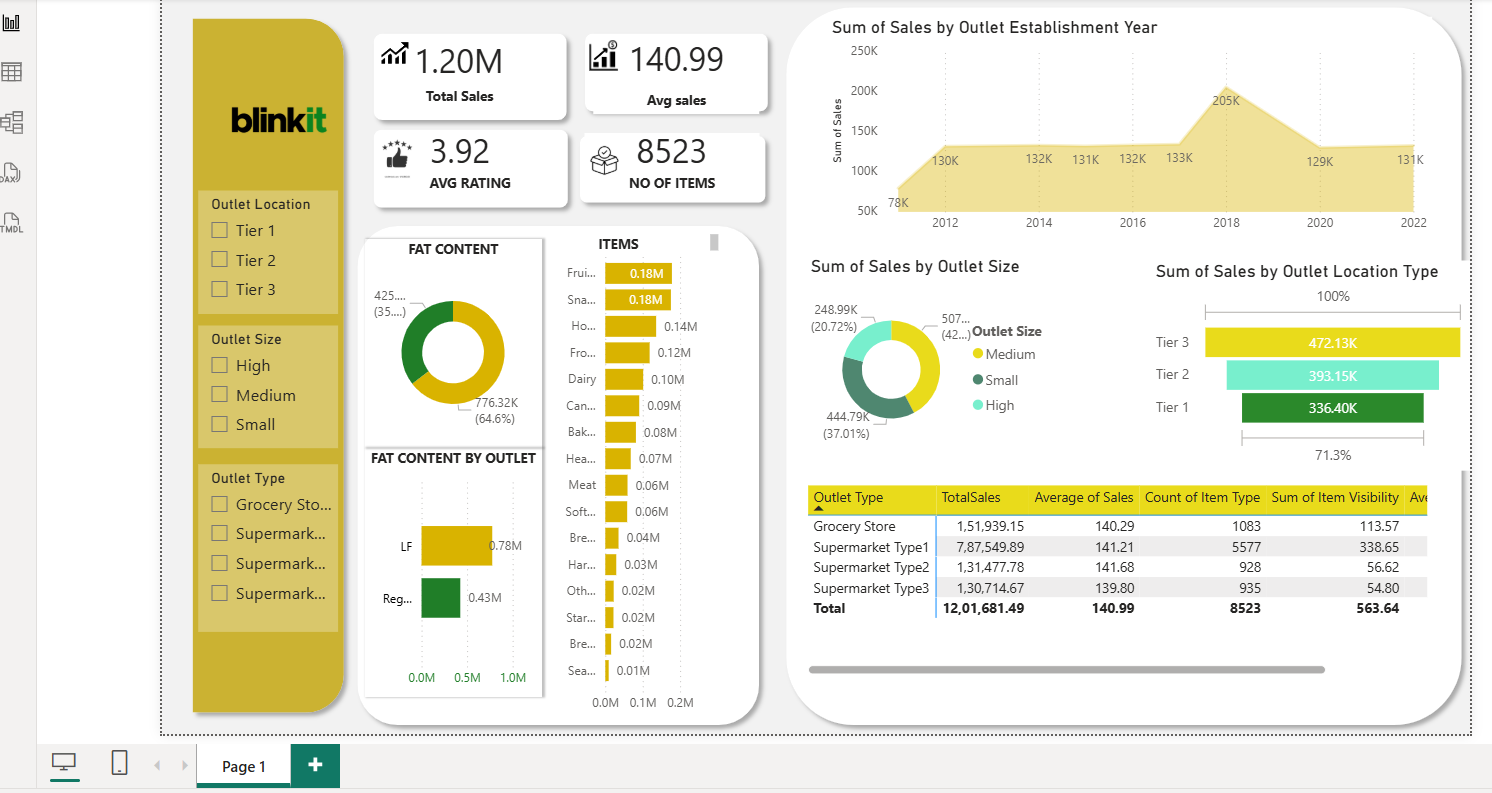

The page's visual inventory and layout, read from the dashboard file:
{"tool":"powerbi","page":{"name":"Page 1","canvas":[1280,720],"ordinal":0},"visuals":[{"type":"shape","box":[20.6,11,166,697.1],"z":0},{"type":"image","box":[20.6,50.8,188,135.8],"z":1000},{"type":"shape","box":[198.1,25.7,206.7,102.7],"z":2000},{"type":"shape","box":[404.8,25.7,196.9,94.2],"z":3000},{"type":"shape","box":[198.1,119.8,207.9,94.2],"z":4000},{"type":"shape","box":[182.2,214,410.9,506.3],"z":5000},{"type":"shape","box":[601.6,0,678.7,720.2],"z":6000},{"type":"card","fields":{"Values":["Sum(BlinkIT Grocery Data.Sales)"]},"box":[209.1,33,162.6,57.5],"z":7000},{"type":"card","fields":{"Values":["Avg(BlinkIT Grocery Data.Sales)"]},"box":[421.9,34.2,162.6,51.4],"z":8000},{"type":"card","fields":{"Values":["Avg(BlinkIT Grocery Data.Rating)"]},"box":[210.3,126,162.6,47.7],"z":9000},{"type":"textbox","box":[220.1,81.9,141.8,31.8],"z":10000},{"type":"textbox","box":[421.9,85.6,162.6,28.1],"z":11000},{"type":"textbox","box":[247,166.3,108.8,28.1],"z":12000},{"type":"barChart","fields":{"Y":["Sum(BlinkIT Grocery Data.Sales)"],"Category":["BlinkIT Grocery Data.Item Type"]},"box":[377.9,236,171.2,472],"z":13000},{"type":"textbox","box":[421.9,226.2,127.2,25.7],"z":14000},{"type":"donutChart","title":"FAT CONTENT ","fields":{"Category":["BlinkIT Grocery Data.Item Fat Content"],"Y":["Sum(BlinkIT Grocery Data.Sales)"]},"box":[198.1,236,173.6,204.2],"z":15000},{"type":"barChart","title":"FAT CONTENT BY OUTLET","fields":{"Category":["BlinkIT Grocery Data.Item Fat Content"],"Y":["Sum(BlinkIT Grocery Data.Sales)"]},"box":[198.1,440.2,173.6,243.3],"z":16000},{"type":"donutChart","fields":{"Category":["BlinkIT Grocery Data.Outlet Size"],"Y":["Sum(BlinkIT Grocery Data.Sales)"]},"box":[629.8,251.9,250.7,204.2],"z":17000},{"type":"funnel","fields":{"Category":["BlinkIT Grocery Data.Outlet Location Type"],"Y":["Sum(BlinkIT Grocery Data.Sales)"]},"box":[904.9,250.7,313,205.4],"z":18000},{"type":"pivotTable","fields":{"Rows":["BlinkIT Grocery Data.Outlet Type"],"Values":["Sum(BlinkIT Grocery Data.Sales)","Avg(BlinkIT Grocery Data.Sales)","CountNonNull(BlinkIT Grocery Data.Item Type)","Sum(BlinkIT Grocery Data.Item Visibility)","Avg(BlinkIT Grocery Data.Rating)"]},"box":[627.3,472,615.1,194.4],"z":19000},{"type":"slicer","fields":{"Values":["BlinkIT Grocery Data.Outlet Location Type"]},"box":[35.5,188.3,137,121.1],"z":20000},{"type":"slicer","fields":{"Values":["BlinkIT Grocery Data.Outlet Size"]},"box":[35.5,320.4,137,119.8],"z":21000},{"type":"shape","box":[399.9,126,199.3,83.2],"z":22000},{"type":"card","fields":{"Values":["CountNonNull(BlinkIT Grocery Data.Item Type)"]},"box":[413.3,132.1,171.2,35.5],"z":23000},{"type":"textbox","box":[413.3,166.3,171.2,28.1],"z":24000},{"type":"stackedAreaChart","fields":{"Category":["BlinkIT Grocery Data.Outlet Establishment Year"],"Y":["Sum(BlinkIT Grocery Data.Sales)"]},"box":[650.5,18.3,591.9,220.1],"z":25000},{"type":"image","box":[209.1,35.5,37.9,36.7],"z":26000},{"type":"image","box":[413.3,34.2,37.9,44],"z":27000},{"type":"image","box":[198.1,126,63.6,55],"z":28000},{"type":"image","box":[409.6,132.1,46.5,53.8],"z":29000},{"type":"slicer","fields":{"Values":["BlinkIT Grocery Data.Outlet Type"]},"box":[35.5,456.1,137,163.9],"z":30000}]}

Visuals, with their boxes on the page's 1280x720 design canvas (x1, y1, x2, y2). These are canvas units, not pixel positions in the 1492x793 screenshot, which may show the page scaled, cropped or inside an application window:
shape: l=21, t=11, r=187, b=708
image: l=21, t=51, r=209, b=187
shape: l=198, t=26, r=405, b=128
shape: l=405, t=26, r=602, b=120
shape: l=198, t=120, r=406, b=214
shape: l=182, t=214, r=593, b=720
shape: l=602, t=0, r=1280, b=720
card - Sum(BlinkIT Grocery Data.Sales): l=209, t=33, r=372, b=90
card - Avg(BlinkIT Grocery Data.Sales): l=422, t=34, r=584, b=86
card - Avg(BlinkIT Grocery Data.Rating): l=210, t=126, r=373, b=174
textbox: l=220, t=82, r=362, b=114
textbox: l=422, t=86, r=584, b=114
textbox: l=247, t=166, r=356, b=194
barChart - Sum(BlinkIT Grocery Data.Sales) x BlinkIT Grocery Data.Item Type: l=378, t=236, r=549, b=708
textbox: l=422, t=226, r=549, b=252
"FAT CONTENT " donutChart: l=198, t=236, r=372, b=440
"FAT CONTENT BY OUTLET" barChart: l=198, t=440, r=372, b=684
donutChart - BlinkIT Grocery Data.Outlet Size x Sum(BlinkIT Grocery Data.Sales): l=630, t=252, r=880, b=456
funnel - BlinkIT Grocery Data.Outlet Location Type x Sum(BlinkIT Grocery Data.Sales): l=905, t=251, r=1218, b=456
pivotTable - BlinkIT Grocery Data.Outlet Type x Sum(BlinkIT Grocery Data.Sales): l=627, t=472, r=1242, b=666
slicer - BlinkIT Grocery Data.Outlet Location Type: l=36, t=188, r=172, b=309
slicer - BlinkIT Grocery Data.Outlet Size: l=36, t=320, r=172, b=440
shape: l=400, t=126, r=599, b=209
card - CountNonNull(BlinkIT Grocery Data.Item Type): l=413, t=132, r=584, b=168
textbox: l=413, t=166, r=584, b=194
stackedAreaChart - BlinkIT Grocery Data.Outlet Establishment Year x Sum(BlinkIT Grocery Data.Sales): l=650, t=18, r=1242, b=238
image: l=209, t=36, r=247, b=72
image: l=413, t=34, r=451, b=78
image: l=198, t=126, r=262, b=181
image: l=410, t=132, r=456, b=186
slicer - BlinkIT Grocery Data.Outlet Type: l=36, t=456, r=172, b=620
